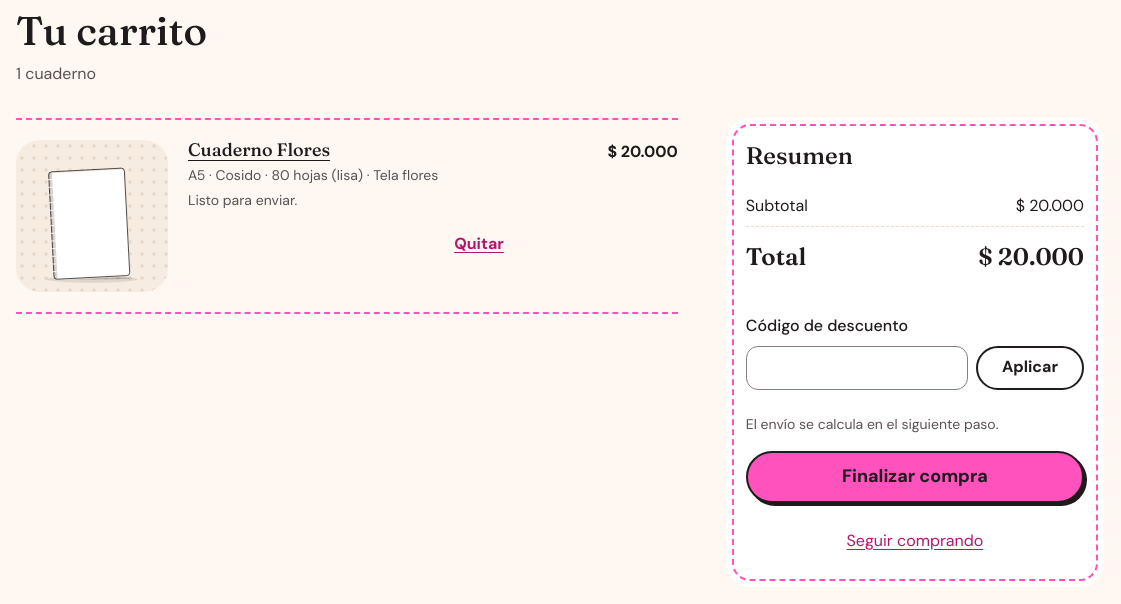
CartView › aplica un código válido y lo descuenta del total
Type "hola10" into the field labelled "Código de descuento" at (857, 368), box [746,346,968,390]
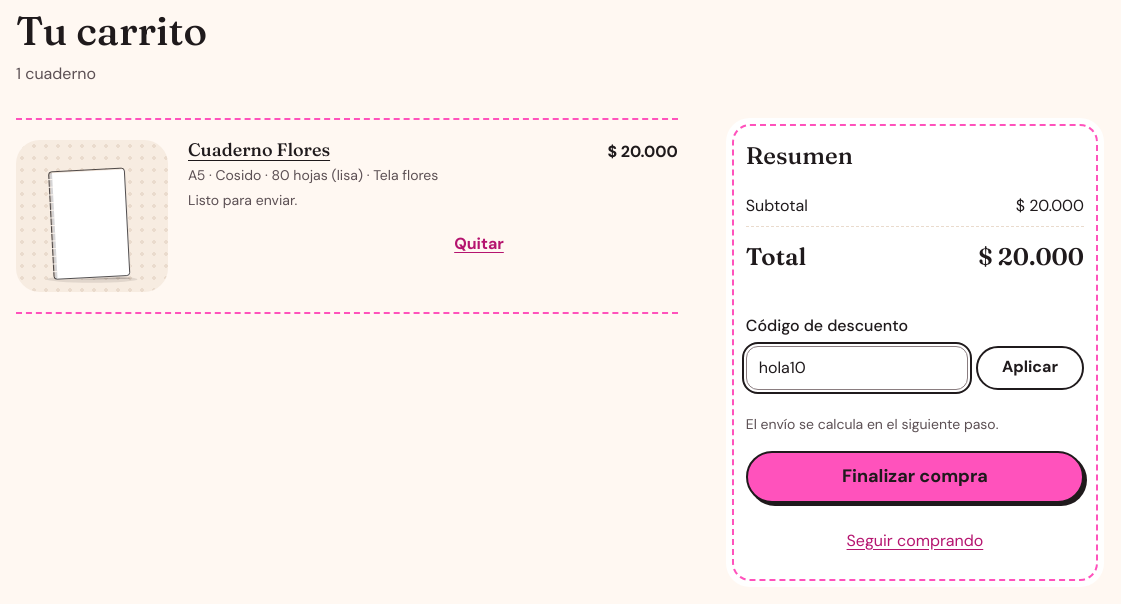
Click the button "Aplicar" at (1030, 368), box [976,346,1084,390]
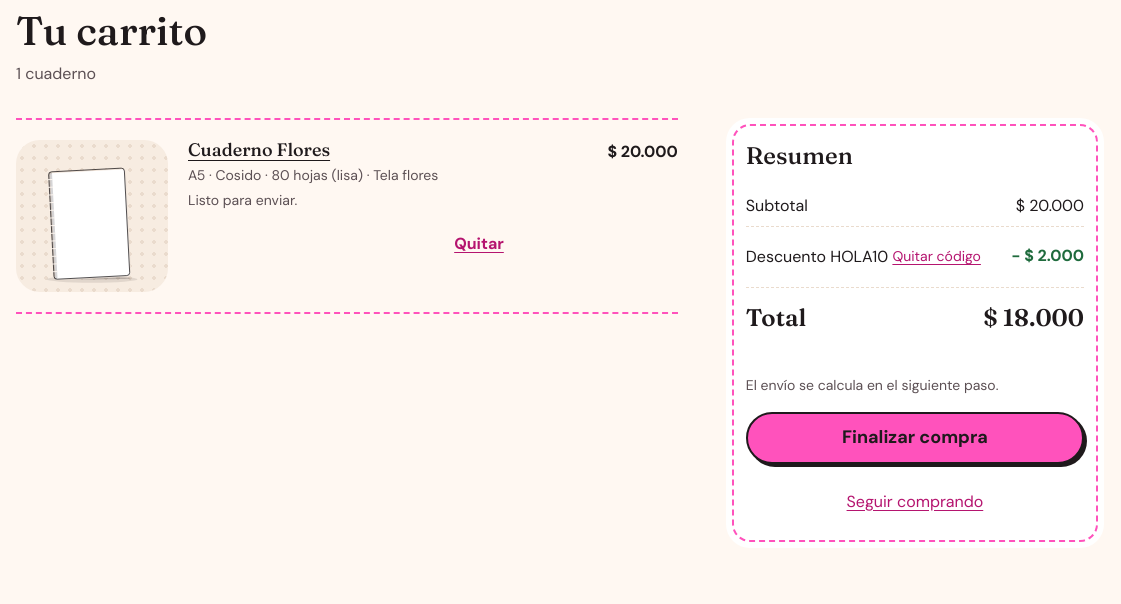
Click the button "Quitar código" at (937, 257), box [892,235,981,279]
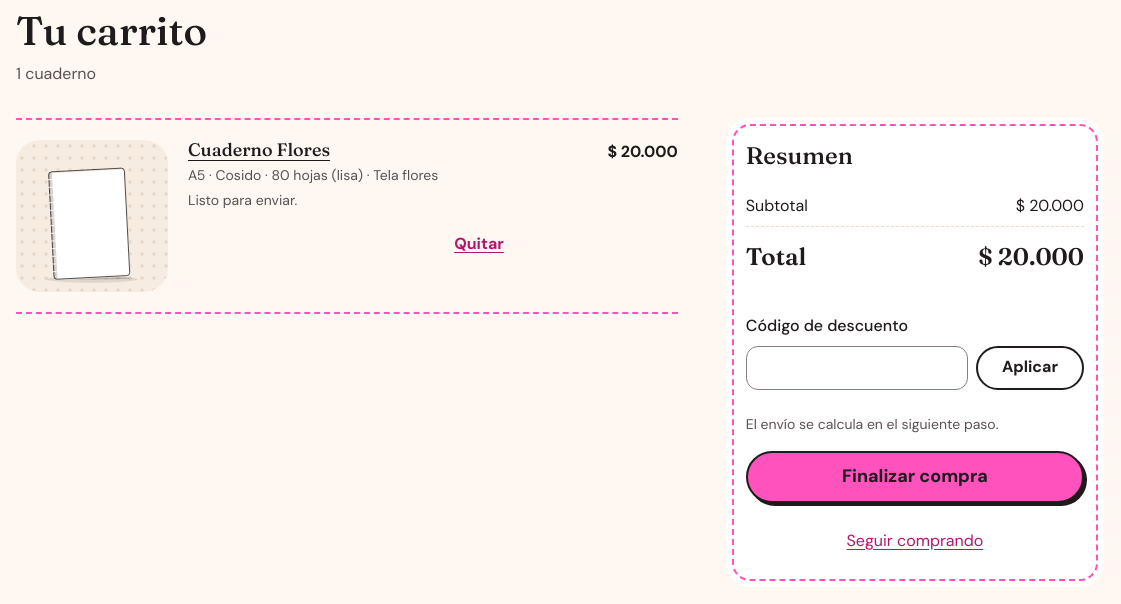
Now the field labelled "Código de descuento" is shown, box [746,346,968,390]
